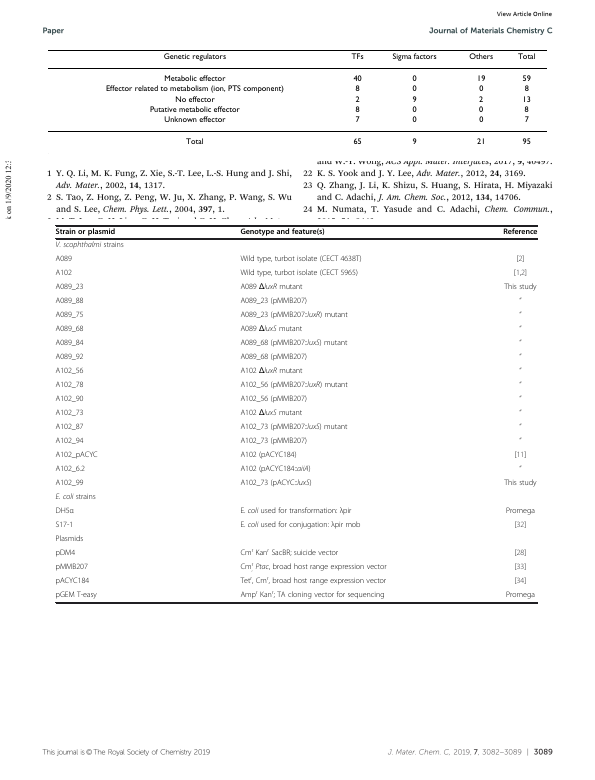borderless: (54, 224, 537, 602), (46, 48, 548, 155)
cell: (104, 85, 284, 95), (239, 561, 387, 573), (239, 575, 387, 587), (239, 589, 385, 601), (239, 255, 362, 265), (239, 521, 361, 531), (239, 269, 359, 279), (239, 547, 339, 559), (239, 507, 352, 517), (239, 311, 349, 321), (239, 381, 349, 391), (239, 339, 348, 349), (239, 423, 348, 433), (148, 105, 240, 115), (239, 228, 326, 237), (239, 479, 312, 489), (239, 465, 311, 475), (55, 241, 125, 251), (239, 297, 308, 307), (239, 353, 308, 363), (239, 395, 308, 405), (239, 437, 308, 447), (162, 52, 227, 62), (239, 283, 303, 293), (239, 325, 303, 335), (239, 367, 303, 377), (239, 409, 303, 419), (239, 451, 297, 461), (163, 75, 226, 84), (163, 116, 226, 125), (55, 228, 116, 237), (391, 52, 437, 62), (55, 451, 99, 461), (55, 591, 98, 601), (55, 493, 97, 503), (174, 95, 215, 105), (55, 577, 90, 587), (503, 283, 537, 293), (503, 479, 537, 489), (55, 563, 89, 573), (502, 228, 538, 237), (55, 465, 86, 475), (505, 507, 536, 517), (505, 591, 536, 601), (55, 283, 84, 293), (55, 297, 84, 307), (55, 311, 84, 321), (55, 325, 84, 335), (55, 339, 84, 349), (55, 353, 84, 363), (55, 367, 84, 377), (55, 381, 84, 391), (55, 395, 84, 405), (55, 409, 84, 419), (55, 423, 84, 433), (55, 437, 84, 447), (55, 479, 84, 489), (55, 535, 84, 545), (468, 52, 494, 62), (55, 549, 76, 559), (55, 507, 75, 517), (516, 52, 536, 62), (55, 521, 74, 531), (185, 138, 204, 148), (55, 255, 73, 265), (55, 269, 73, 279), (513, 269, 528, 279), (513, 451, 527, 461), (513, 521, 527, 531), (513, 549, 527, 559), (513, 563, 527, 573), (513, 577, 527, 587), (350, 52, 364, 62), (515, 255, 525, 265), (521, 95, 531, 105), (352, 138, 362, 148), (476, 138, 486, 148), (521, 138, 531, 148), (352, 75, 362, 84), (476, 75, 486, 84), (521, 75, 531, 84), (354, 85, 360, 95), (411, 85, 417, 95), (478, 85, 484, 95), (523, 85, 529, 95), (354, 95, 360, 105), (411, 95, 417, 105), (478, 95, 484, 105), (354, 105, 360, 115), (411, 105, 417, 115), (478, 105, 484, 115), (523, 105, 529, 115), (411, 138, 417, 148), (411, 75, 417, 84), (354, 116, 360, 125), (411, 116, 417, 125), (478, 116, 484, 125), (523, 116, 529, 125), (518, 297, 522, 305), (518, 311, 522, 319), (518, 325, 522, 333), (518, 339, 522, 347), (518, 353, 522, 361), (518, 367, 522, 375), (518, 381, 522, 389), (518, 395, 522, 403), (518, 409, 522, 417), (518, 423, 522, 431), (518, 437, 522, 445), (518, 465, 522, 473)
